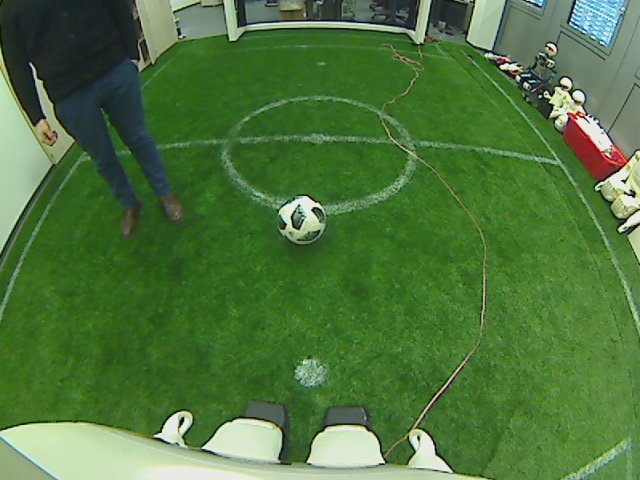ball: (275, 195, 326, 243)
